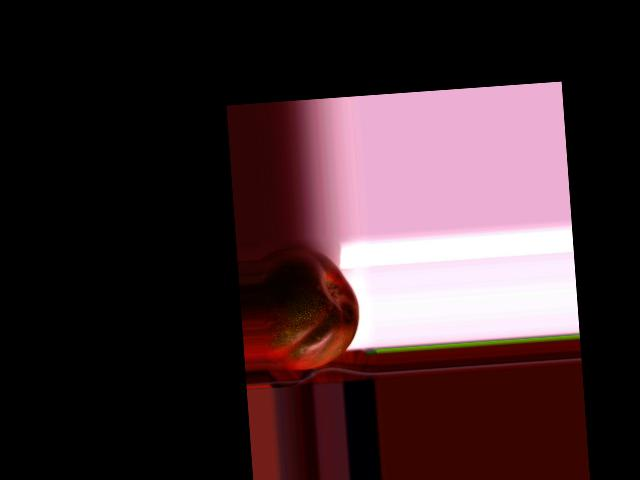tomato: (259, 244, 362, 372)
